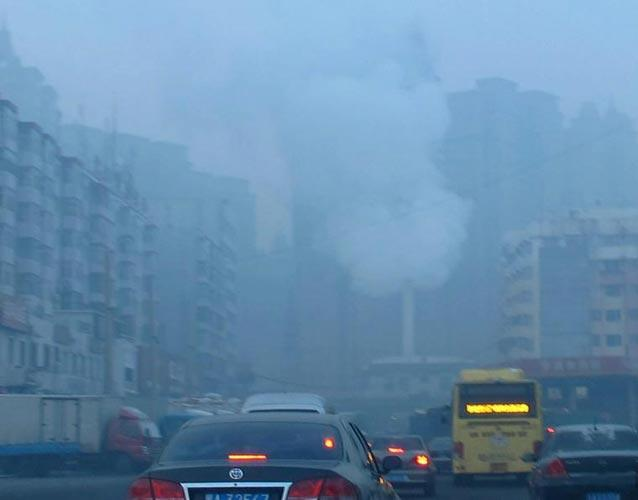bus: (1, 392, 173, 480), (451, 366, 544, 488), (114, 395, 224, 467)
car: (124, 410, 402, 500), (519, 423, 638, 497), (239, 391, 338, 477), (368, 434, 436, 500)
